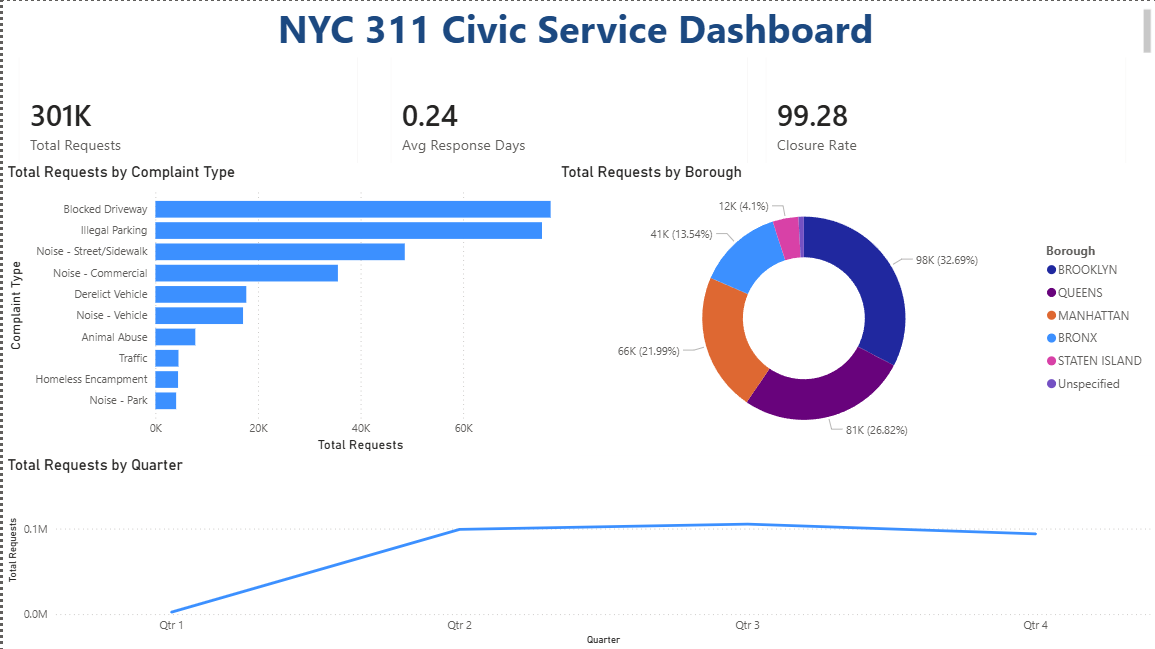

What the dashboard file says about the page in this screenshot:
{"tool":"powerbi","page":{"name":"NYC Service Overview","canvas":[1280,720],"ordinal":0},"visuals":[{"type":"cardVisual","fields":{"Data":["NYC311data.Total Requests"]},"box":[0,31.7,411.7,208.3],"z":0},{"type":"cardVisual","fields":{"Data":["NYC311data.Avg Response Days"]},"box":[413.3,31.7,431.7,208.3],"z":1000},{"type":"cardVisual","fields":{"Data":["NYC311data.Closure Rate"]},"box":[830,31.7,435,208.3],"z":2000},{"type":"clusteredBarChart","fields":{"Category":["NYC311data.Complaint Type"],"Y":["NYC311data.Total Requests"]},"box":[0,180,640,325],"z":3000},{"type":"donutChart","fields":{"Category":["NYC311data.Borough"],"Y":["NYC311data.Total Requests"]},"box":[615,180,665,325],"z":4000},{"type":"lineChart","fields":{"Category":["NYC311data.Created Date.Variation.Date Hierarchy.Year","NYC311data.Created Date.Variation.Date Hierarchy.Quarter","NYC311data.Created Date.Variation.Date Hierarchy.Month","NYC311data.Created Date.Variation.Date Hierarchy.Day"],"Y":["NYC311data.Total Requests"]},"box":[0,505,1280,215],"z":5000},{"type":"textbox","box":[0,0,1280,62.5],"z":6000}]}

Visuals, with their boxes in screenshot pixels (x1, y1, x2, y2), scaled from the page's 1280x720 canvas onto the 1155x649 screenshot:
cardVisual - NYC311data.Total Requests: <region>0, 29, 371, 216</region>
cardVisual - NYC311data.Avg Response Days: <region>373, 29, 762, 216</region>
cardVisual - NYC311data.Closure Rate: <region>749, 29, 1141, 216</region>
clusteredBarChart - NYC311data.Complaint Type x NYC311data.Total Requests: <region>0, 162, 578, 455</region>
donutChart - NYC311data.Borough x NYC311data.Total Requests: <region>555, 162, 1154, 455</region>
lineChart - NYC311data.Created Date.Variation.Date Hierarchy.Year x NYC311data.Created Date.Variation.Date Hierarchy.Quarter: <region>0, 455, 1154, 648</region>
textbox: <region>0, 0, 1154, 56</region>
